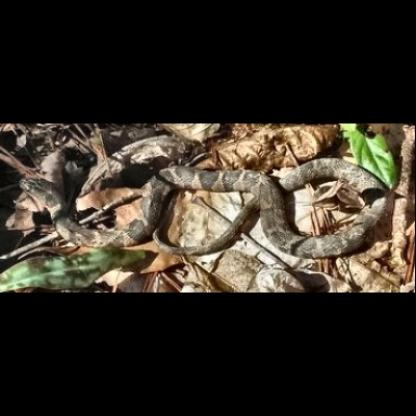Snake: (17, 159, 403, 263)
